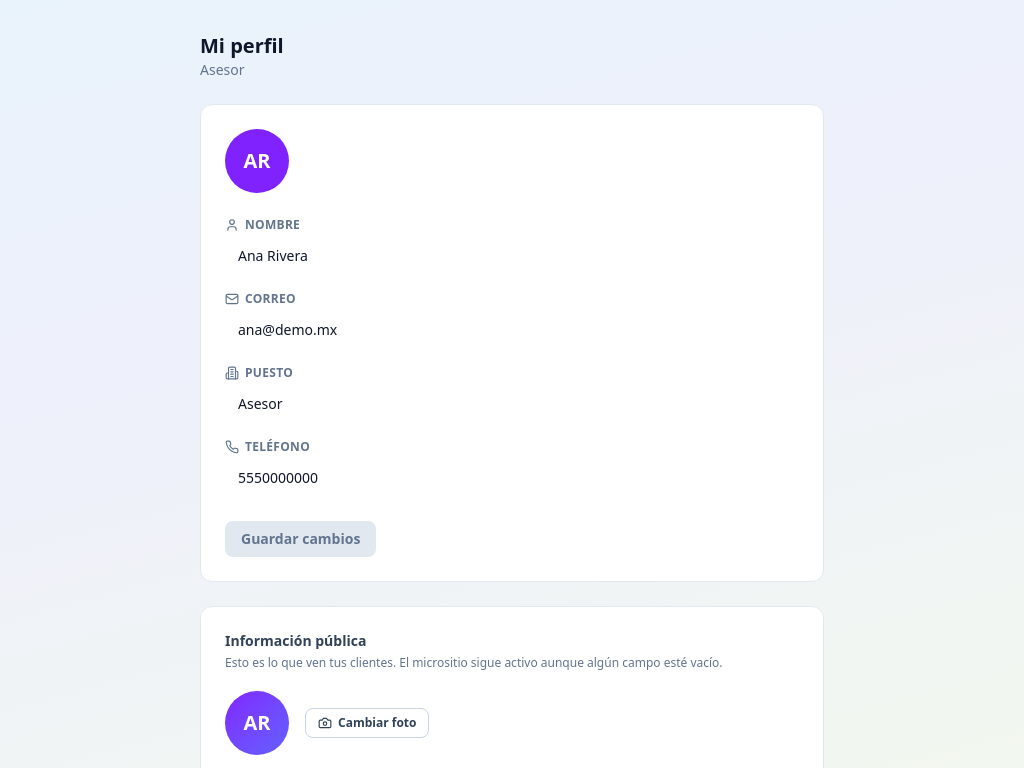
Scenario: PerfilPersonal: éxito respaldado por backend › muestra fallo de Auth y no afirma que guardó el correo
This screenshot has width=1024, height=768.
Step 1. Replace the text in the 2nd field with "duplicado@demo.mx" → [512, 330], box [225,311,799,349]
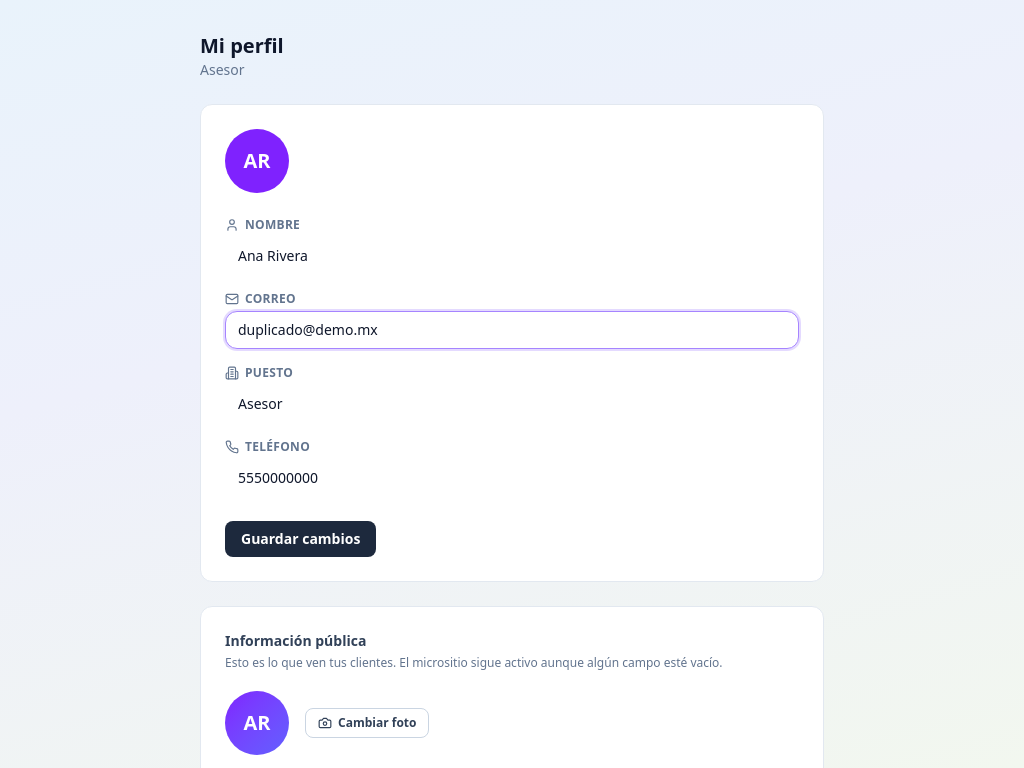
Step 2. Click the button "Guardar cambios" → [301, 539], box [225,521,376,557]
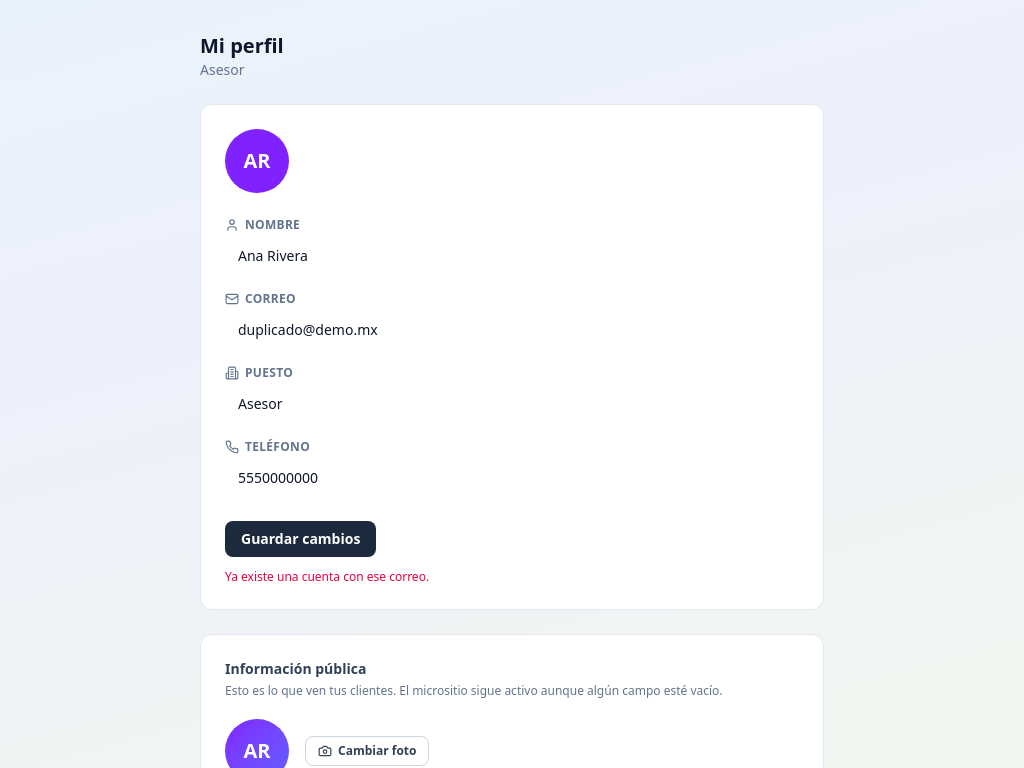
Result: the message shows "Ya existe" at [225,568,429,585]
